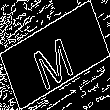M_NW: (31, 23, 79, 87)
